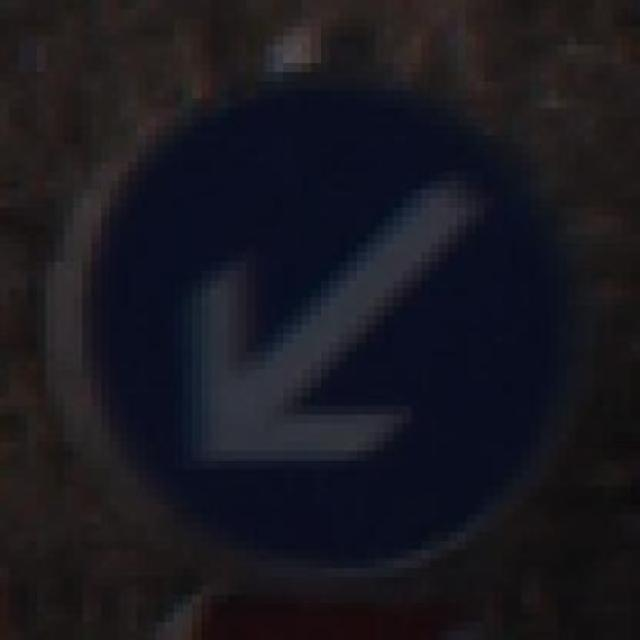Keep-Left: (82, 54, 595, 595)
